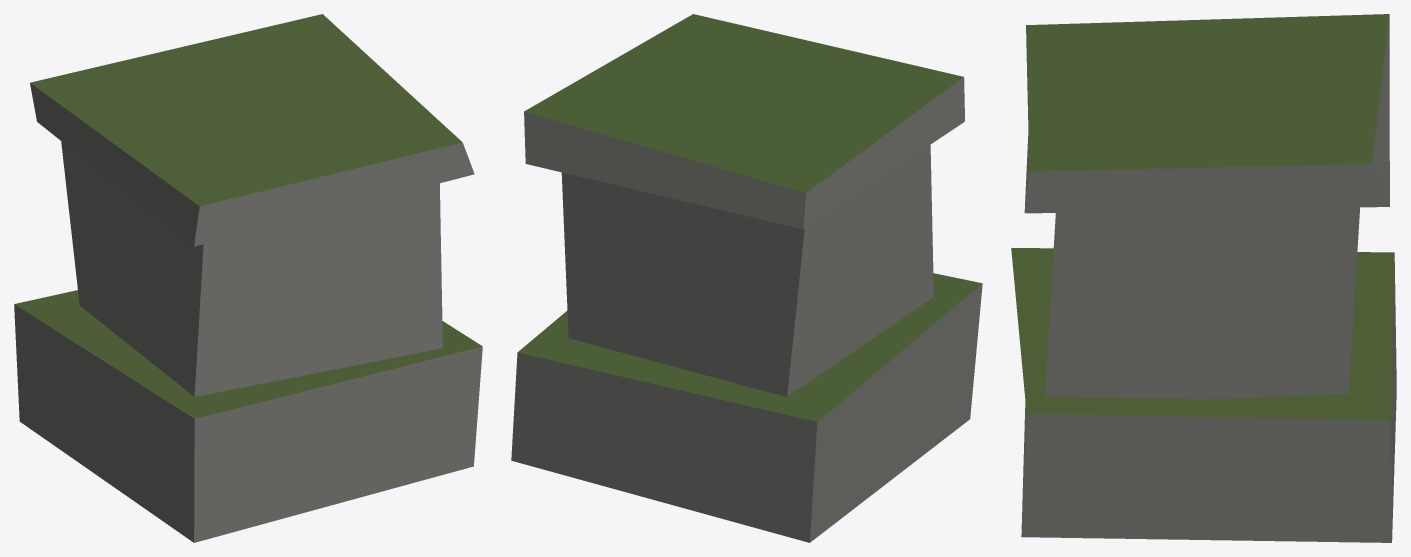
File: Plinth.fbx
3 views of the same model, side by side, from view 1: azimuth 30°, elevation 25°; view 2: azimuth 150°, elevation 25°; view 3: azimuth 270°, elevation 25° (orthographic). The views are drawn at different scales.
Parts seen in each view (by area): view 1: Plinth; view 2: Plinth; view 3: Plinth.
Boxes of the visible parts, x1,y1,x2,y2 form: Plinth: (14, 14, 482, 542); Plinth: (511, 14, 982, 542); Plinth: (1011, 14, 1396, 542).
Size of the model in its own units: 0.9391 by 1.02 by 0.922.
